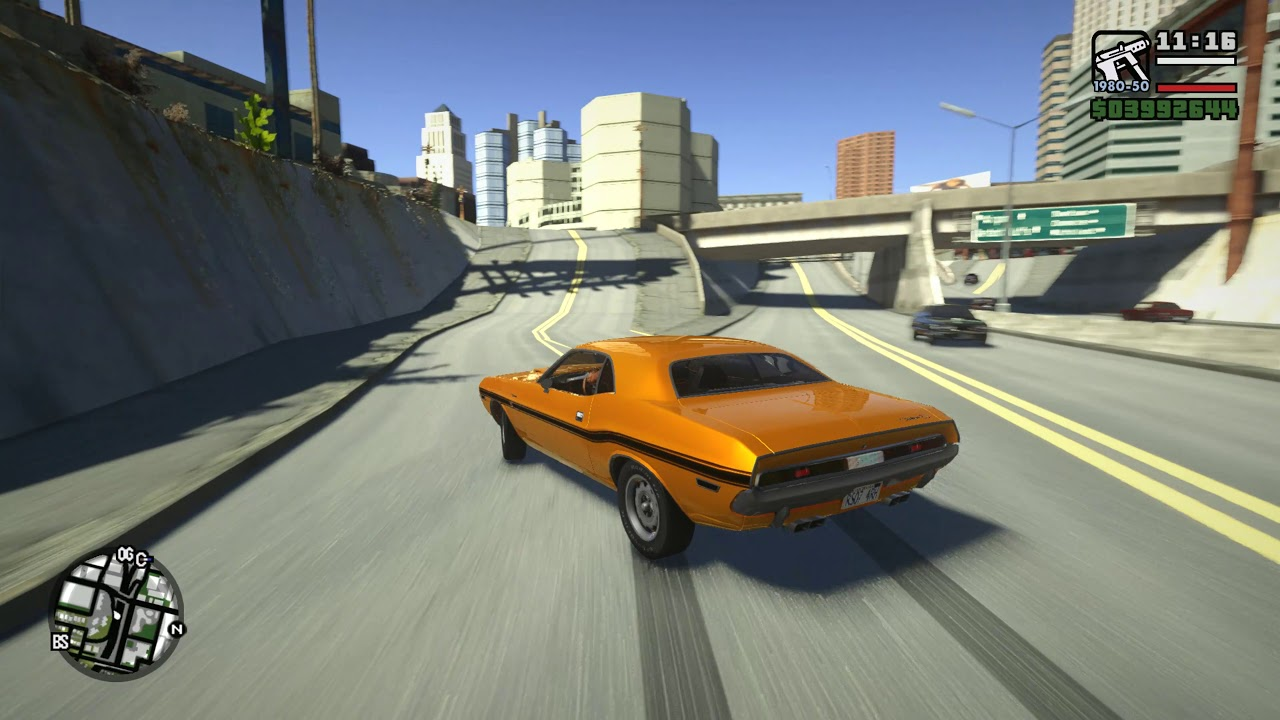car: (481, 328, 953, 559), (909, 301, 994, 360)
